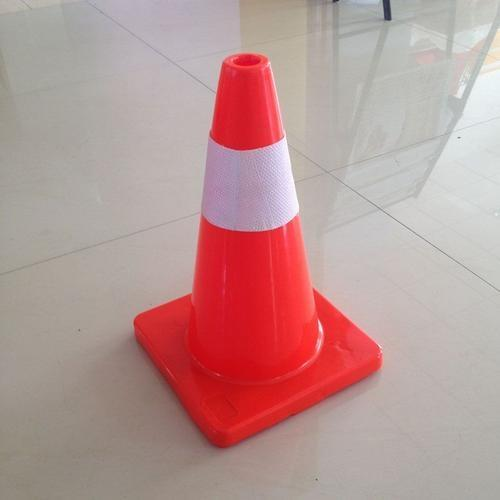cone_barrel: (164, 60, 340, 397)
